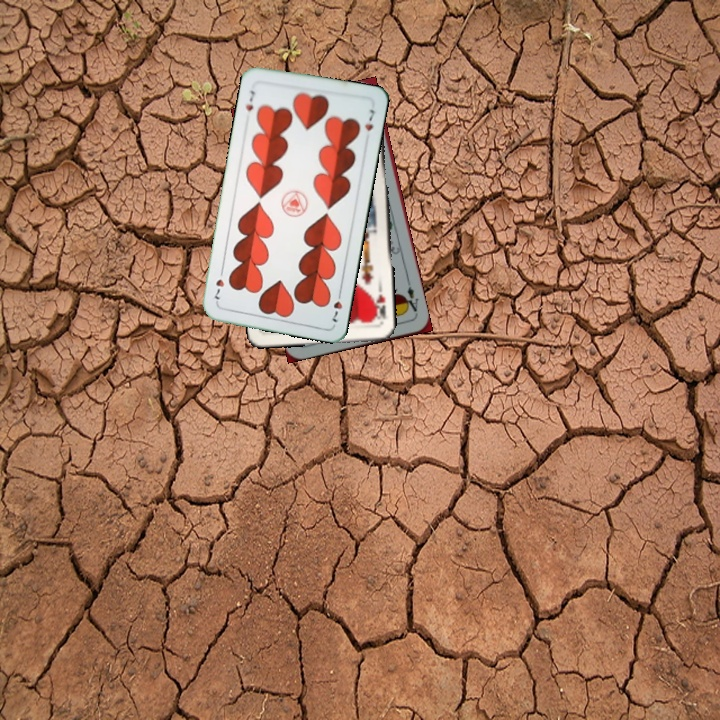EA: (400, 277, 421, 318)
H7: (327, 286, 345, 325), (242, 86, 258, 114)
HK: (370, 290, 388, 322)
